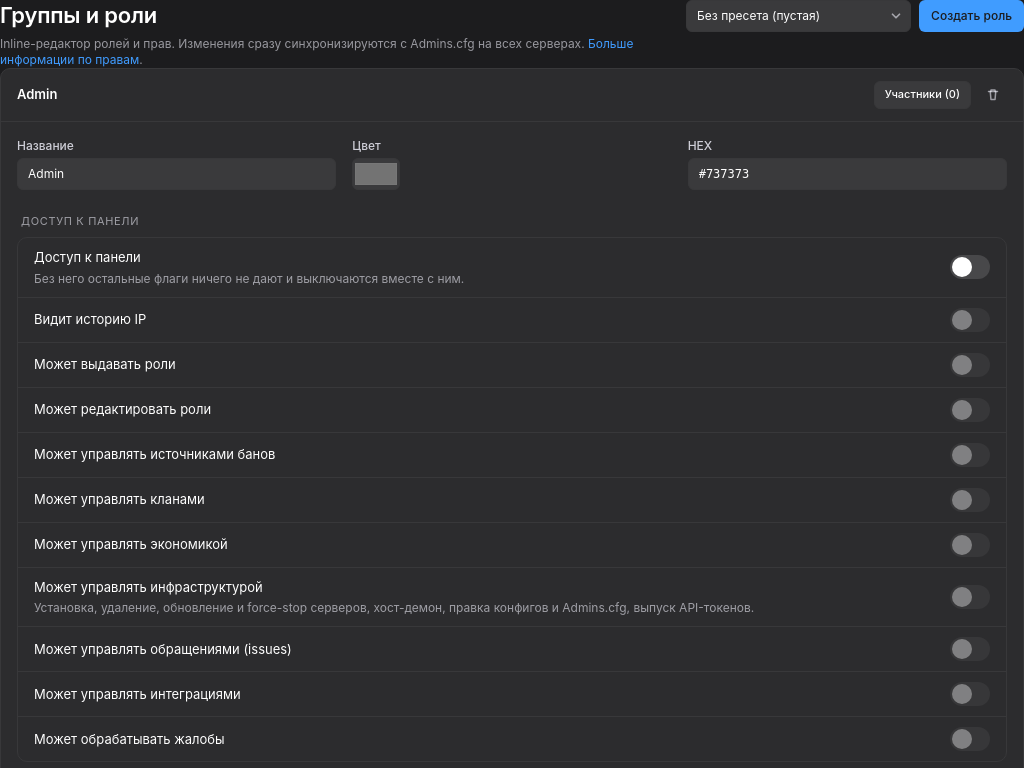
it: role deletion — confirmation with a typed challenge › deletes nothing when the confirmation is dismissed
Click the button named "Удалить роль" at (993, 95), box [979,81,1007,109]
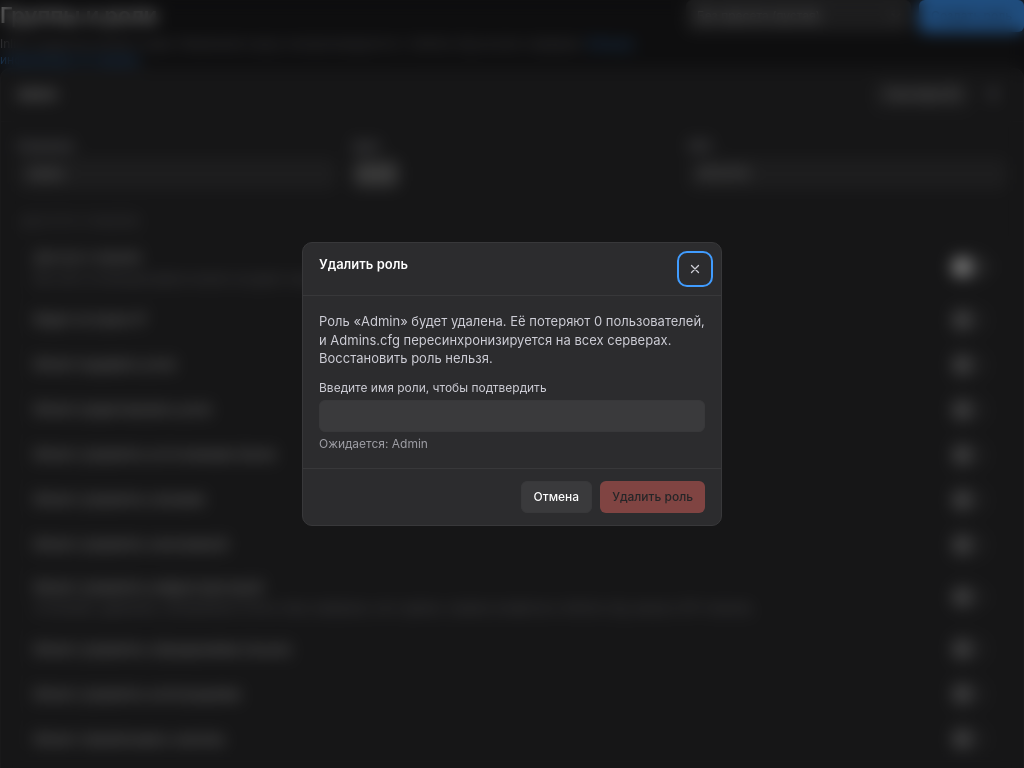
Click the button named "Отмена" at (695, 269), box [681,255,709,283]
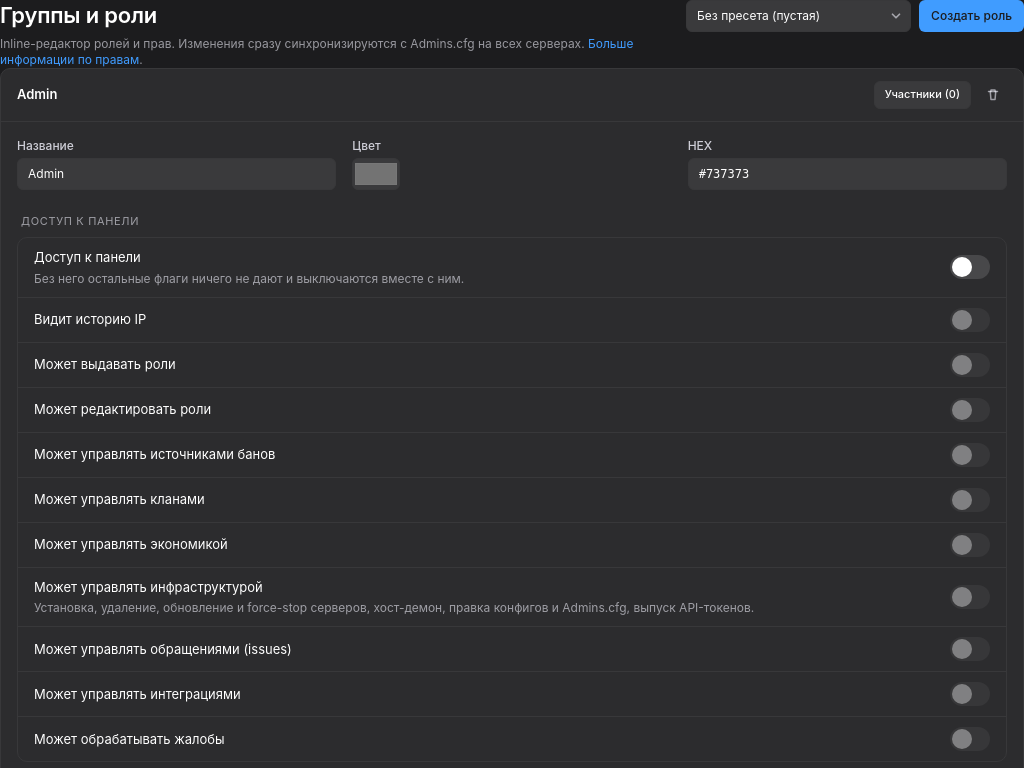
Now the dialog is gone
